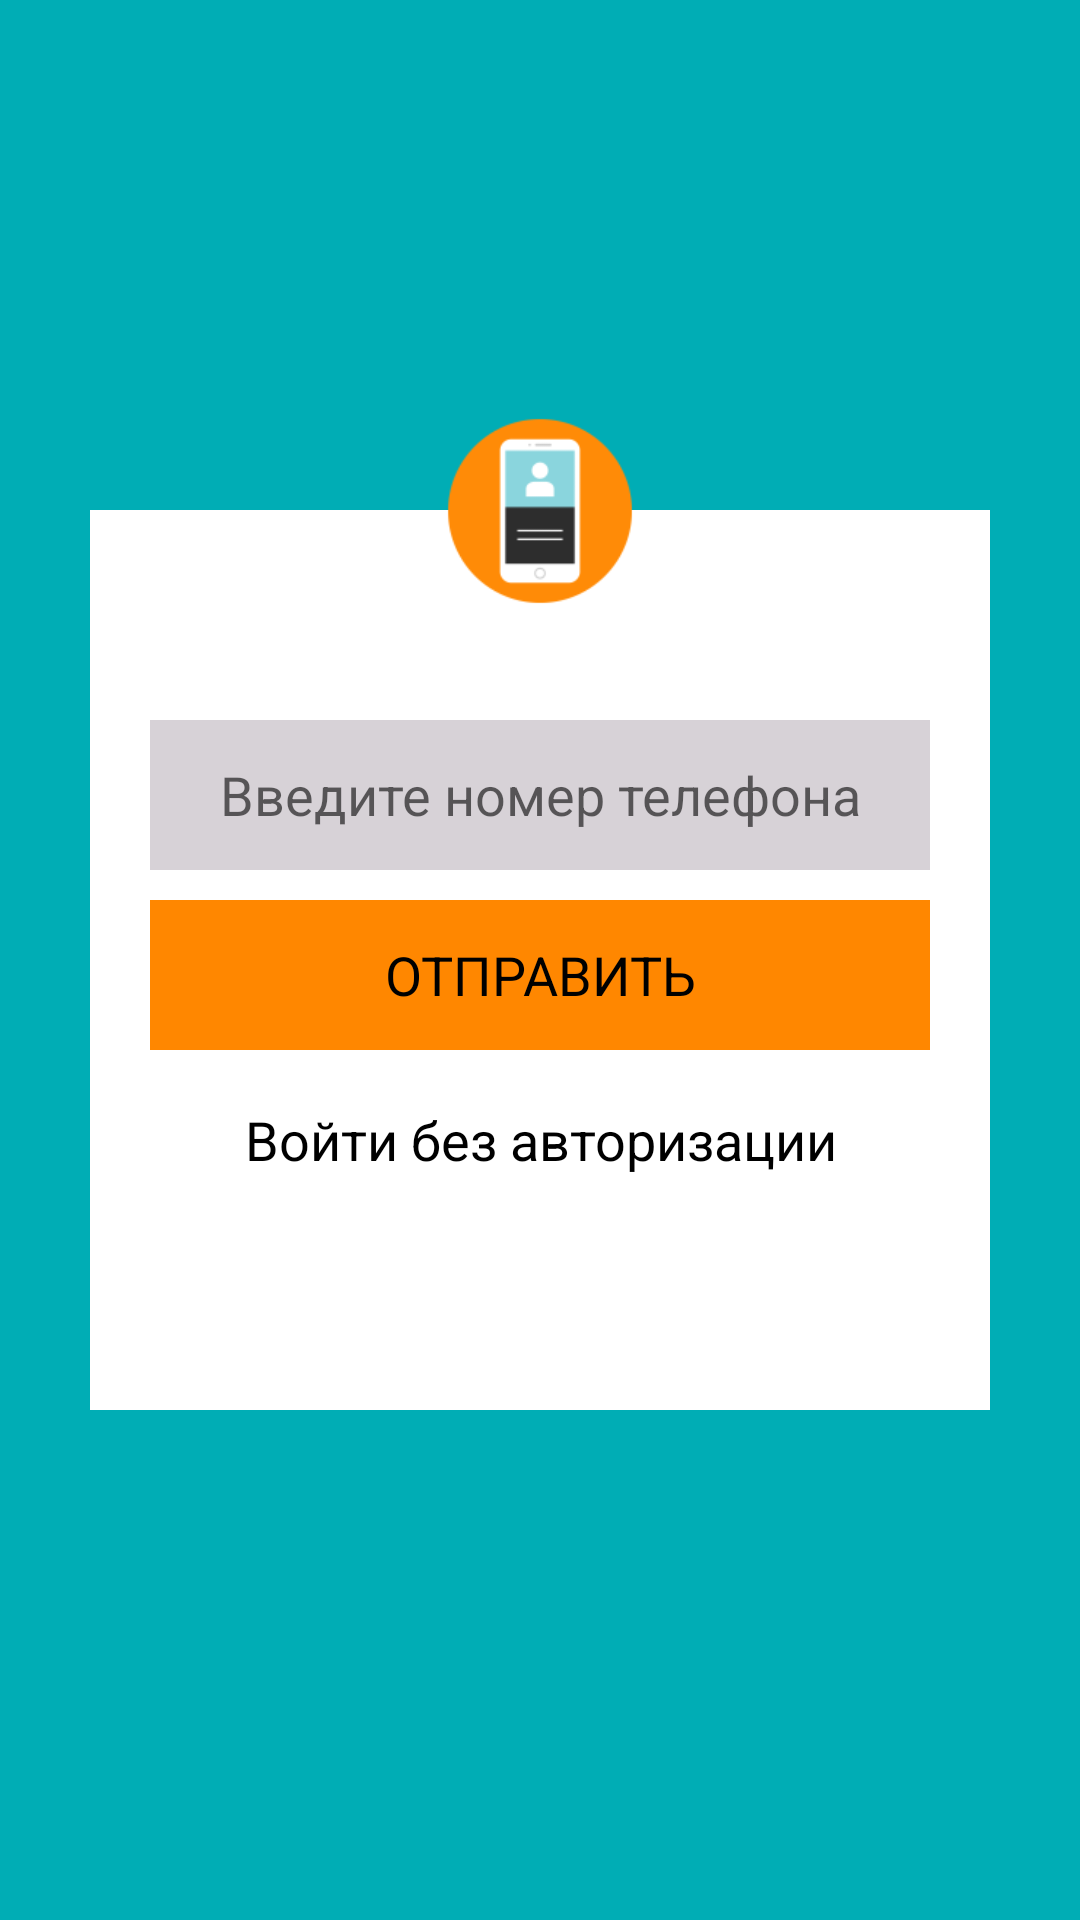

Named icons in this screenshot (1080w x 1920h) and their centers, (x=x, y=y):
write number: (x=540, y=511)
